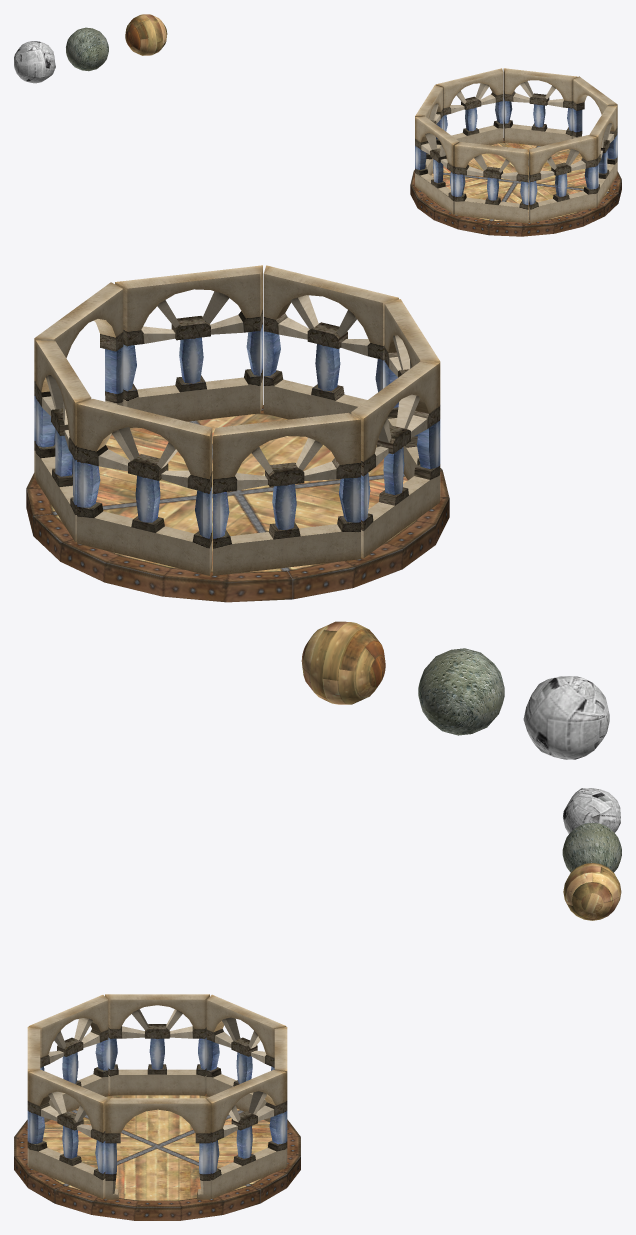
Rendered from Ball_Plan.FBX.
The picture shows the model from 3 angles, top to bottom: view 1: azimuth 30°, elevation 25°; view 2: azimuth 150°, elevation 25°; view 3: azimuth 270°, elevation 25°; orthographic projection. The views are drawn at different scales.
Parts seen in each view (by area): view 1: P_Modul_03_Floor, P_Modul_03_Wall05, P_Modul_03_Wall06, P_Modul_03_Wall01, P_Modul_03_Wall02, P_Modul_03_Wall04, P_Modul_03_Wall07, P_Ball_Stone_MF, P_Ball_Paper_MF, P_Ball_Wood_MF, P_Modul_03_Gate, P_Modul_03_Wall03; view 2: P_Modul_03_Floor, P_Modul_03_Wall03, P_Modul_03_Wall02, P_Modul_03_Wall07, P_Modul_03_Wall06, P_Modul_03_Wall04, P_Modul_03_Wall01, P_Ball_Stone_MF, P_Ball_Paper_MF, P_Ball_Wood_MF, P_Modul_03_Gate, P_Modul_03_Wall05; view 3: P_Modul_03_Floor, P_Modul_03_Wall04, P_Modul_03_Wall07, P_Modul_03_Wall01, P_Modul_03_Wall03, P_Modul_03_Wall05, P_Modul_03_Gate, P_Ball_Wood_MF, P_Ball_Stone_MF, P_Ball_Paper_MF, P_Modul_03_Wall06, P_Modul_03_Wall02.
Part boxes in pixels (x1,y1,x2,y2): P_Modul_03_Floor: (410,138,621,236); P_Modul_03_Wall05: (454,142,528,223); P_Modul_03_Wall06: (529,135,596,223); P_Modul_03_Wall01: (503,68,577,149); P_Modul_03_Wall02: (435,68,503,145); P_Modul_03_Wall04: (415,116,459,214); P_Modul_03_Wall07: (589,105,617,206); P_Ball_Stone_MF: (66,27,108,71); P_Ball_Paper_MF: (14,41,55,83); P_Ball_Wood_MF: (125,14,167,55); P_Modul_03_Gate: (573,76,617,173); P_Modul_03_Wall03: (415,85,442,175); P_Modul_03_Floor: (26,405,449,602); P_Modul_03_Wall03: (213,412,360,575); P_Modul_03_Wall02: (77,399,212,575); P_Modul_03_Wall07: (115,265,262,427); P_Modul_03_Wall06: (263,265,398,419); P_Modul_03_Wall04: (351,361,439,558); P_Modul_03_Wall01: (35,340,91,542); P_Ball_Stone_MF: (418,648,504,735); P_Ball_Paper_MF: (523,676,609,759); P_Ball_Wood_MF: (301,621,385,704); P_Modul_03_Gate: (34,282,123,477); P_Modul_03_Wall05: (384,299,440,500); P_Modul_03_Floor: (14,1094,300,1220); P_Modul_03_Wall04: (105,994,209,1095); P_Modul_03_Wall07: (28,1070,108,1198); P_Modul_03_Wall01: (206,1070,286,1198); P_Modul_03_Wall03: (206,994,286,1122); P_Modul_03_Wall05: (28,995,108,1122); P_Modul_03_Gate: (105,1098,210,1199); P_Ball_Wood_MF: (563,863,621,920); P_Ball_Stone_MF: (562,823,621,872); P_Ball_Paper_MF: (563,788,620,833); P_Modul_03_Wall06: (27,1027,40,1166); P_Modul_03_Wall02: (274,1027,287,1166).
Size of the model in its own units: 47.16 by 11.71 by 41.85.
Materials: 5 (5 with a texture image).
